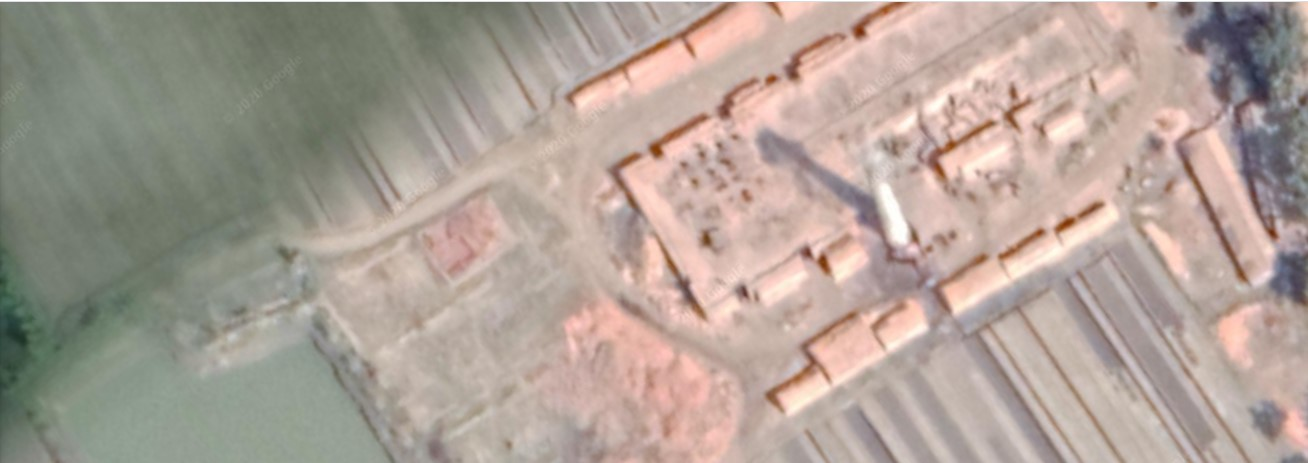kiln: (659, 49, 1200, 323)
